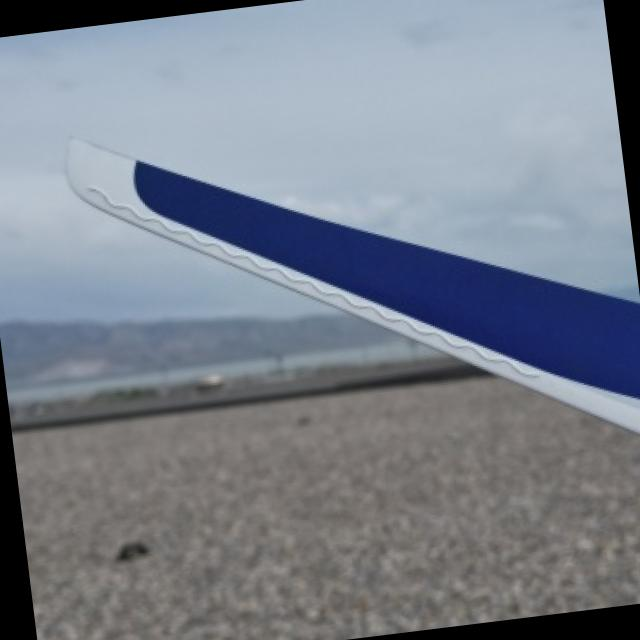healthy: (68, 137, 640, 427)
